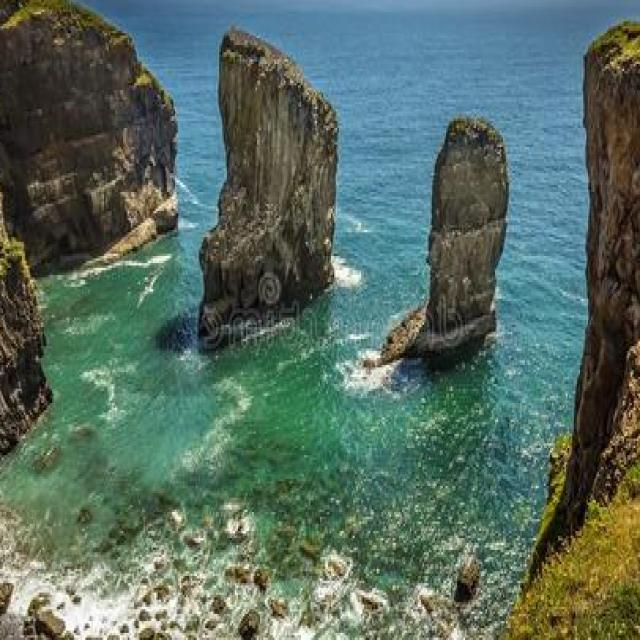reef: (192, 21, 350, 356), (382, 107, 522, 369)
